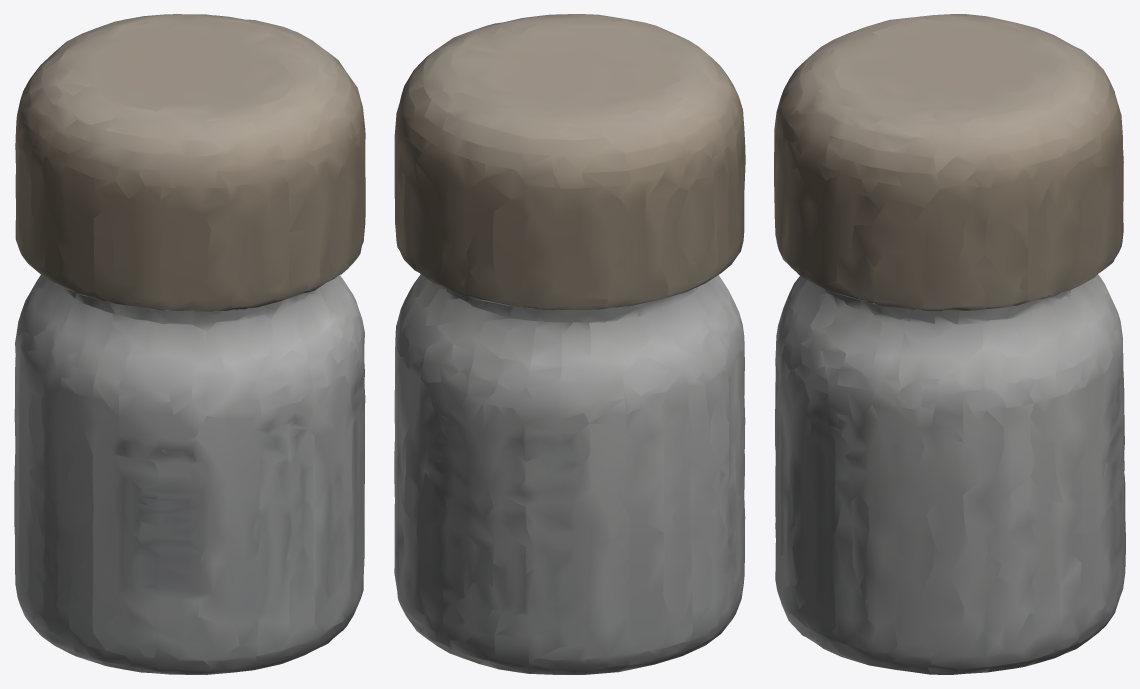
Rendered from 0002_mask_003_small_spice_jar.glb.
3 renders of one model, left to right at view 1: azimuth 30°, elevation 25°; view 2: azimuth 150°, elevation 25°; view 3: azimuth 270°, elevation 25°, orthographic.
Parts seen in each view (by area): view 1: mask_003_object; view 2: mask_003_object; view 3: mask_003_object.
Part boxes in pixels (x1,y1,x2,y2): mask_003_object: [14, 14, 365, 674]; mask_003_object: [394, 14, 745, 674]; mask_003_object: [774, 14, 1125, 674].
Size of the model in its own units: 0.0947 by 0.1626 by 0.0949.
